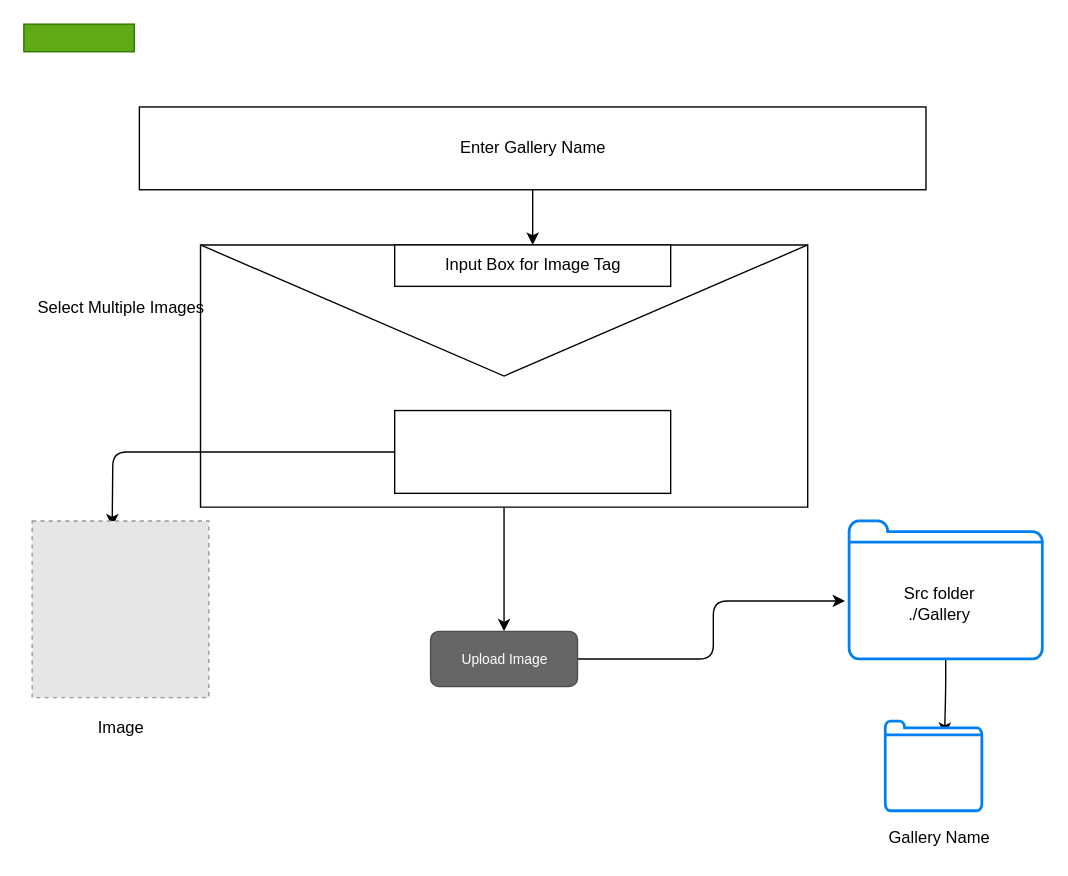
This 1068x876 diagram has some shape labels left out. Grey dashed boxes stand in for pictures. The shapes that lost their labels are listed below. From the top down, each one's centre as x and y in pixels, then its label:
At point (78, 37): "Add Gallery".
At point (532, 451): "Browse Images and select".
